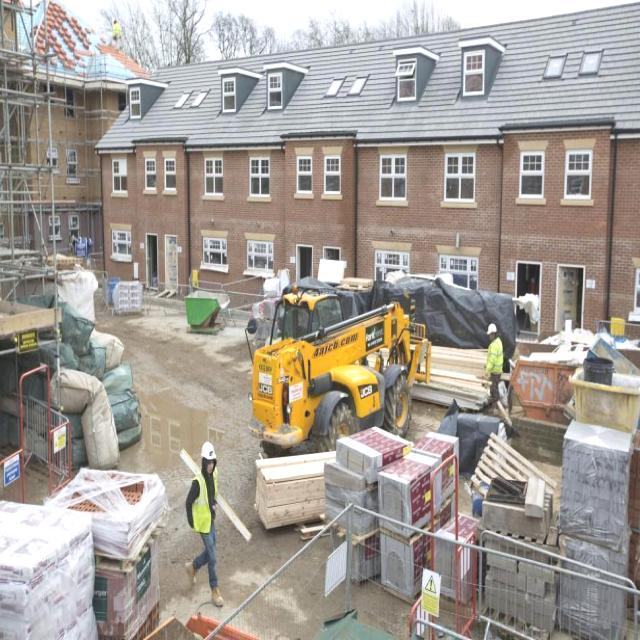head_helmet: (200, 441, 216, 459), (487, 320, 498, 338)
person: (188, 442, 228, 606), (484, 321, 505, 401)
shoes: (207, 582, 226, 611), (184, 558, 198, 591)
vest: (190, 468, 220, 533), (486, 339, 504, 375)
